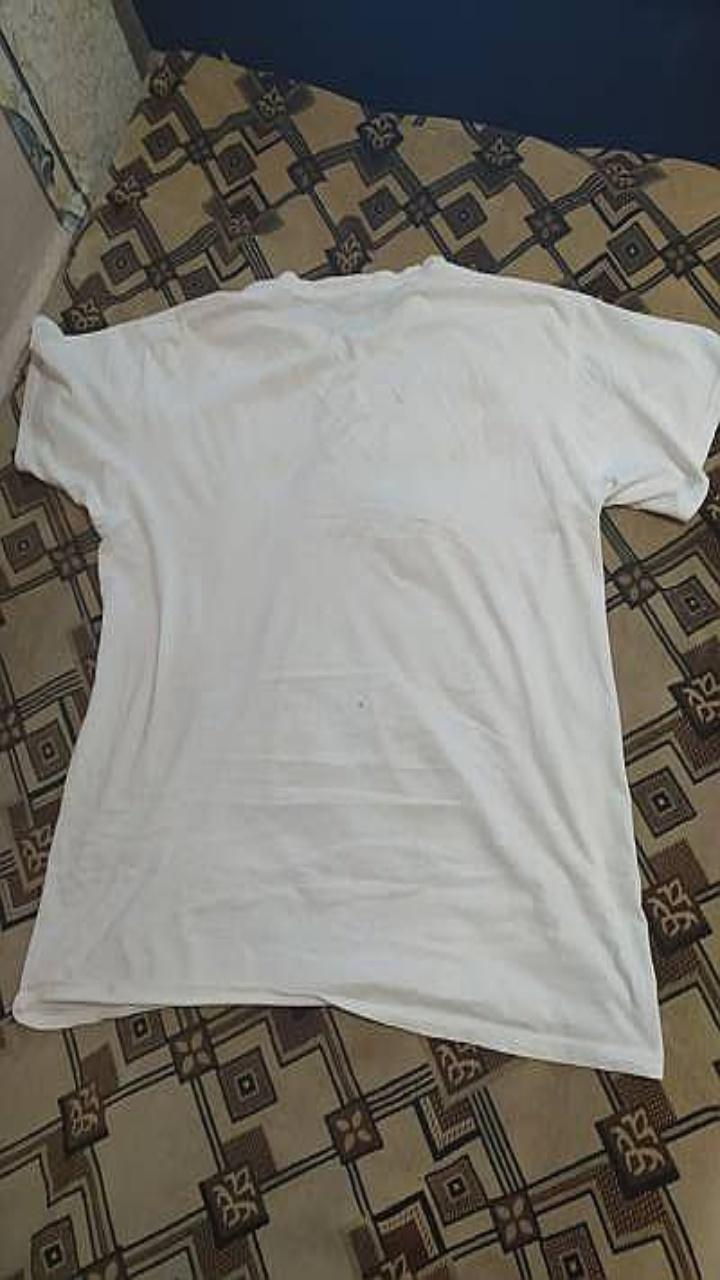T-Shirt: (13, 256, 719, 1076)
